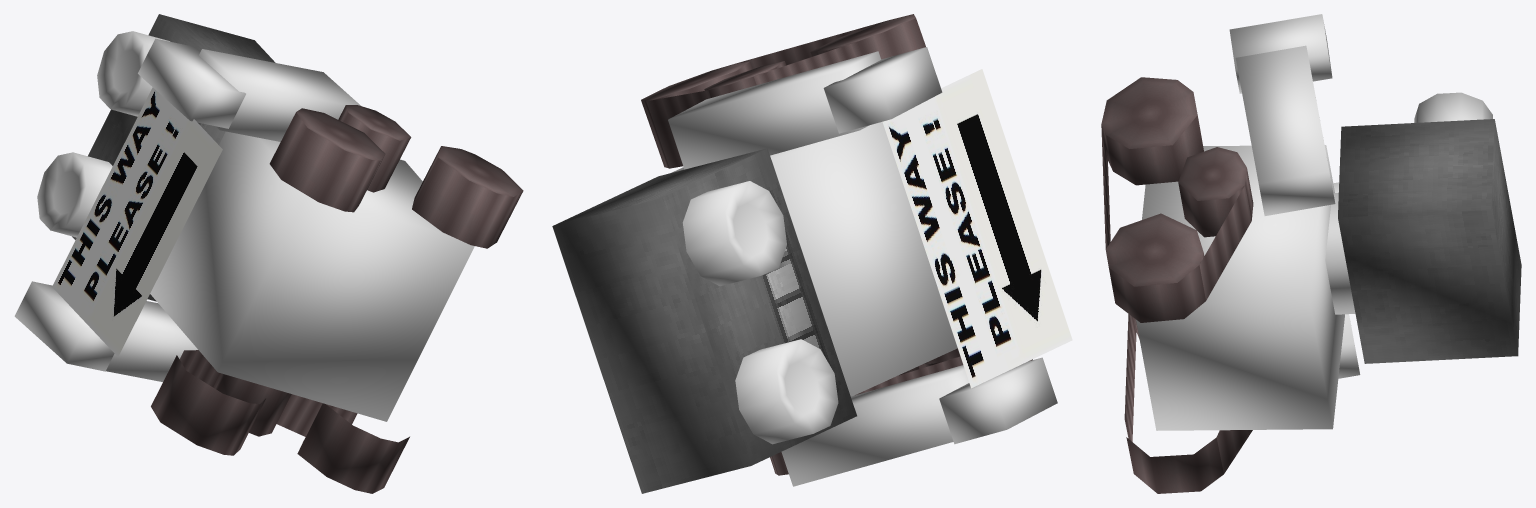
File: robot1_low.glb
The picture shows the model from 3 angles, left to right: view 1: azimuth 30°, elevation 25°; view 2: azimuth 150°, elevation 25°; view 3: azimuth 270°, elevation 25°; orthographic projection. The views are drawn at different scales.
Visible parts, largest first — view 1: ___, marsrobot1.jpg__, marsrobotsign.jpg__, marsrobot2.jpg__; view 2: ___, marsrobot2.jpg__, marsrobotsign.jpg__, marsrobot1.jpg__; view 3: ___, marsrobot2.jpg__, marsrobot1.jpg__.
Part boxes in pixels (x1=…): ___: x1=14, y1=31, x2=474, y2=421; marsrobot1.jpg__: x1=151, y1=105, x2=523, y2=493; marsrobotsign.jpg__: x1=52, y1=87, x2=222, y2=356; marsrobot2.jpg__: x1=72, y1=14, x2=275, y2=301; ___: x1=668, y1=47, x2=1057, y2=486; marsrobot2.jpg__: x1=552, y1=148, x2=856, y2=493; marsrobotsign.jpg__: x1=882, y1=69, x2=1072, y2=388; marsrobot1.jpg__: x1=641, y1=14, x2=1032, y2=475; ___: x1=1136, y1=14, x2=1492, y2=430; marsrobot2.jpg__: x1=1338, y1=119, x2=1521, y2=363; marsrobot1.jpg__: x1=1101, y1=77, x2=1253, y2=493.
Bounding box in the file's own units: 5.89 × 5.97 × 5.53.
Materials: 4 (3 with a texture image).
